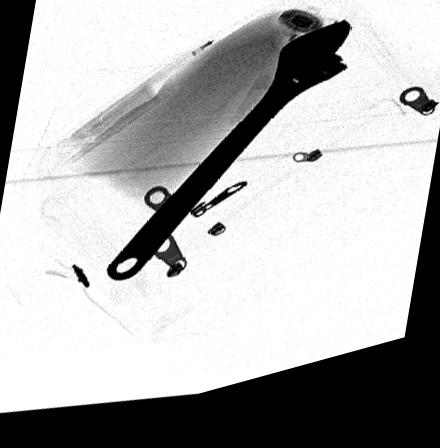Wrench: (102, 36, 351, 287)
